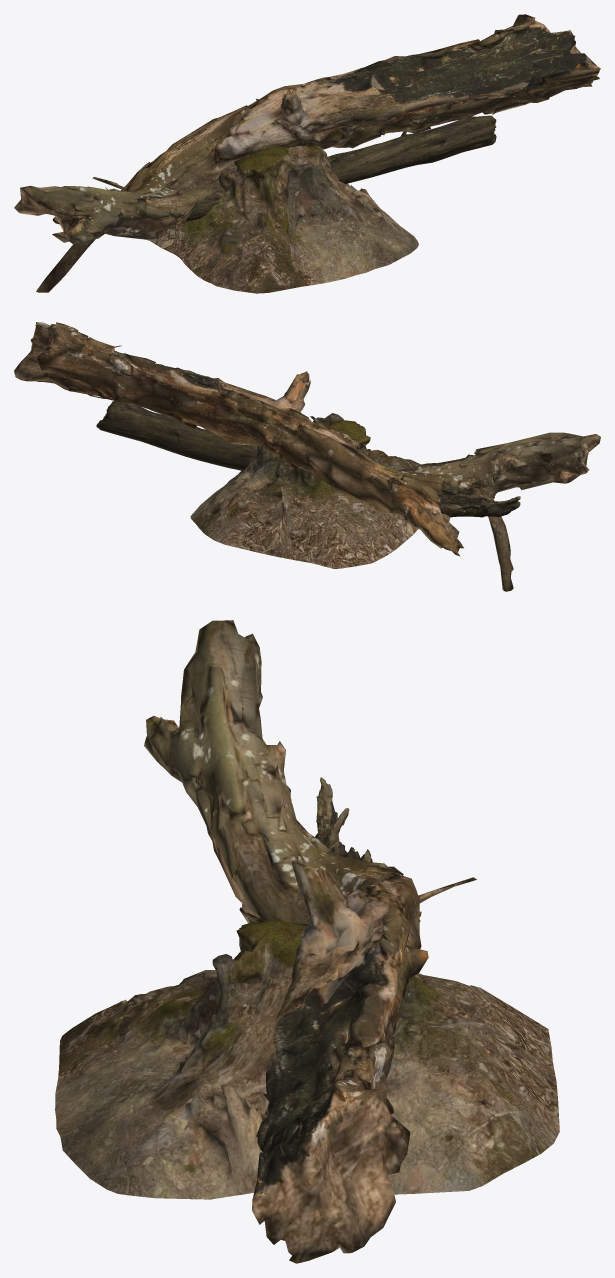
The model's file is wood.glb.
3 renders of one model, top to bottom at view 1: azimuth 30°, elevation 25°; view 2: azimuth 150°, elevation 25°; view 3: azimuth 270°, elevation 25°, orthographic. The views are drawn at different scales.
Parts seen in each view (by area): view 1: log2, stump, log; view 2: log2, stump, log; view 3: log2, stump, log.
Boxes of the visible parts, <box> form: log2: <box>14,14,600,292</box>; stump: <box>150,145,418,293</box>; log: <box>52,115,496,224</box>; log2: <box>14,322,600,591</box>; stump: <box>190,413,421,568</box>; log: <box>96,401,520,517</box>; log2: <box>144,620,476,1263</box>; stump: <box>55,919,559,1199</box>; log: <box>315,777,372,862</box>.
Size of the model in its own units: 4.05 by 1.05 by 1.59.
Materials: 3 (3 with a texture image).
